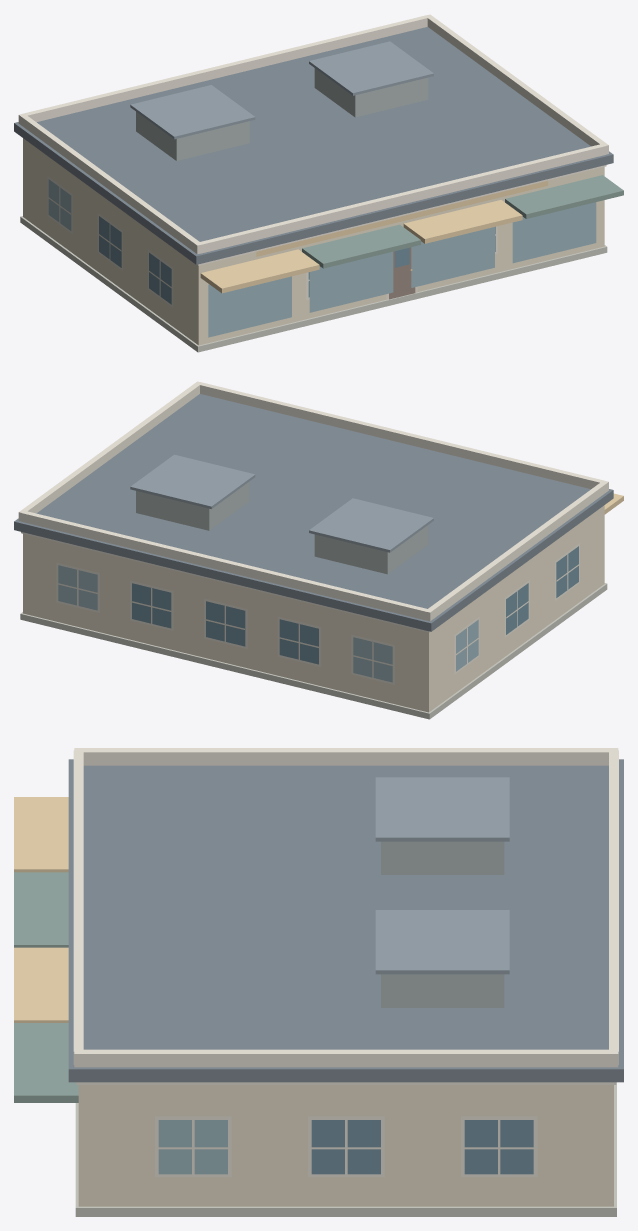
Rendered from shop-awning.glb.
The picture shows the model from 3 angles, top to bottom: view 1: azimuth 30°, elevation 25°; view 2: azimuth 150°, elevation 25°; view 3: azimuth 270°, elevation 25°; orthographic projection. The views are drawn at different scales.
Parts seen in each view (by area): view 1: shop-awning; view 2: shop-awning; view 3: shop-awning.
Part boxes in pixels (x1,y1,x2,y2): shop-awning: (14, 14, 623, 352); shop-awning: (14, 381, 623, 719); shop-awning: (14, 748, 623, 1216).
Bounding box in the file's own units: 16.45 × 4.72 × 13.68.
